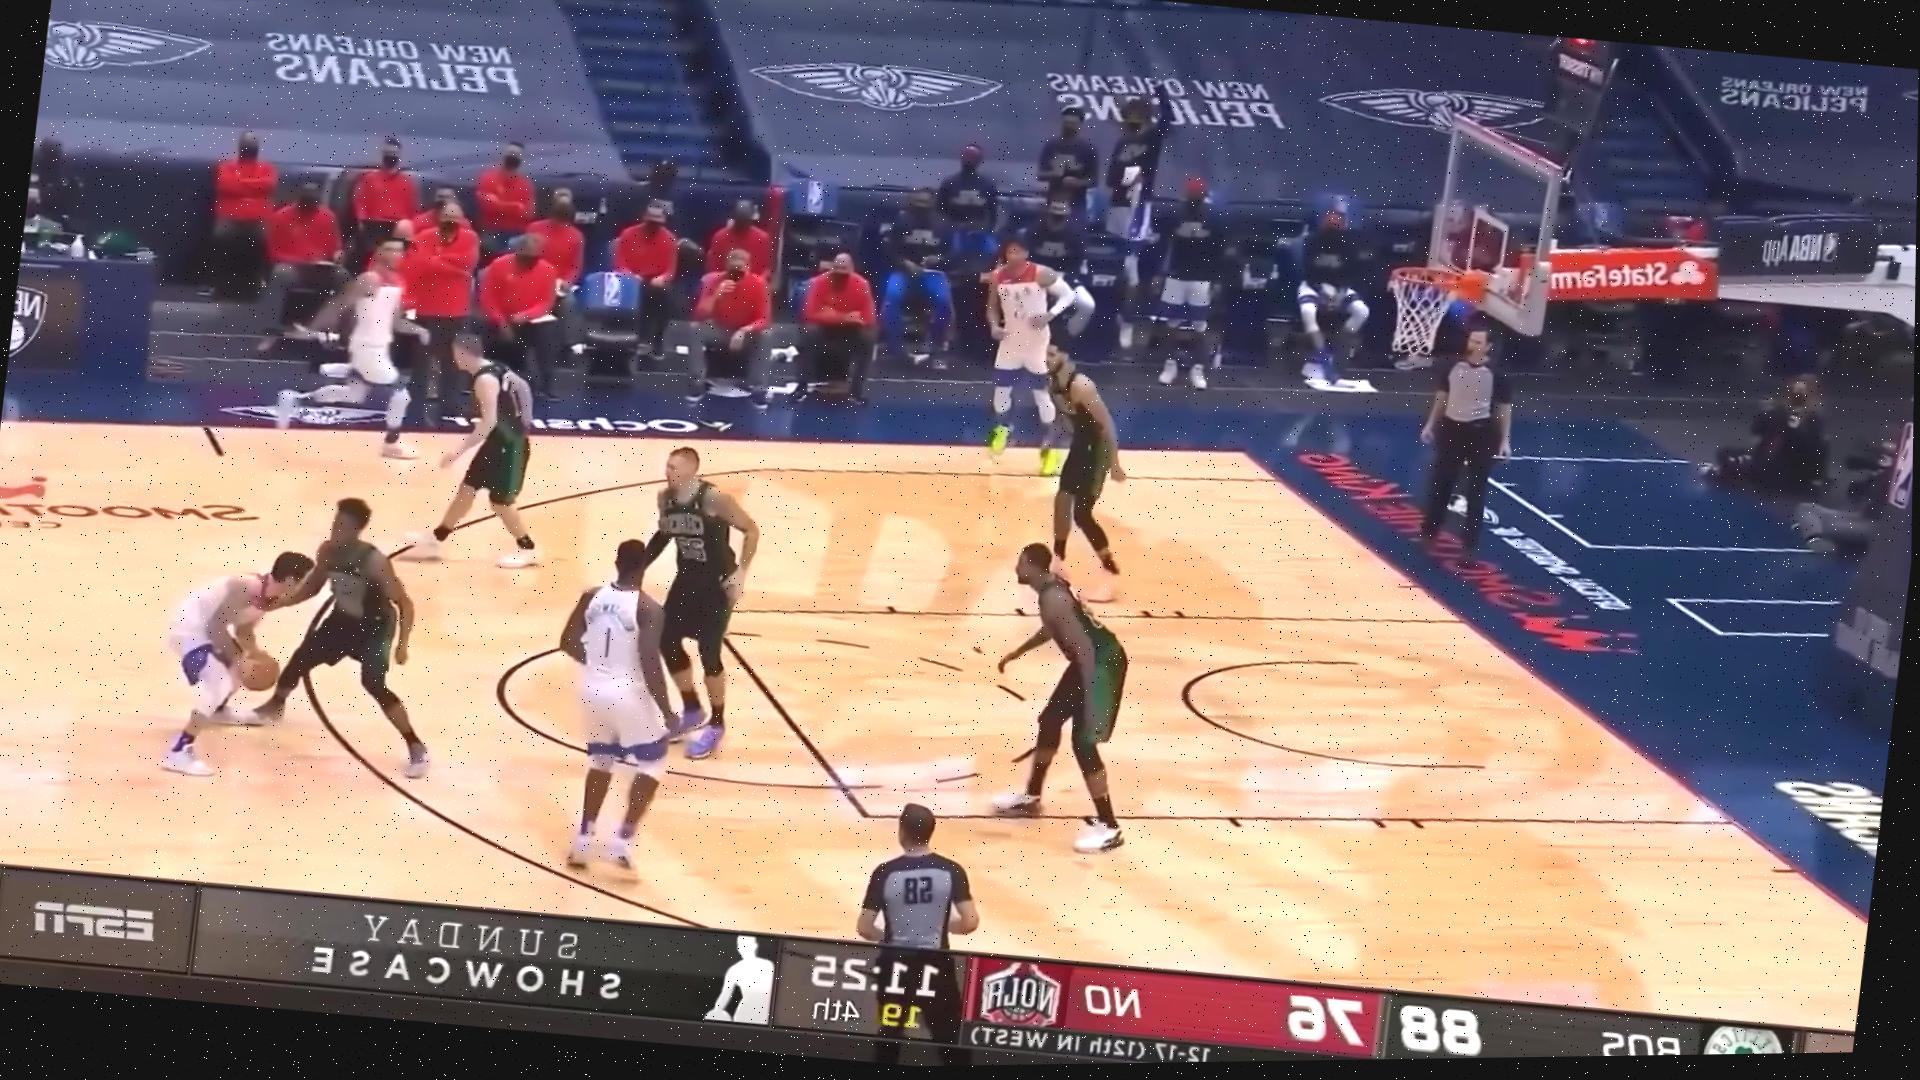no_foul: (120, 469, 465, 799)
